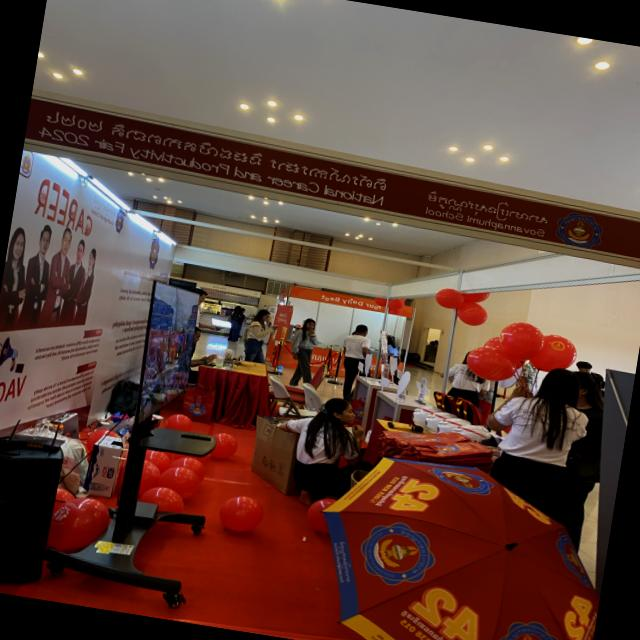2: (41, 106, 394, 197)
297: (371, 474, 403, 501), (396, 619, 433, 640)
650: (35, 125, 94, 149)
752: (405, 579, 486, 640), (377, 474, 442, 519)
893: (559, 589, 598, 640)
Yolov11_80vkh: (423, 184, 554, 230), (395, 607, 451, 640), (374, 474, 411, 507), (336, 540, 353, 585)
